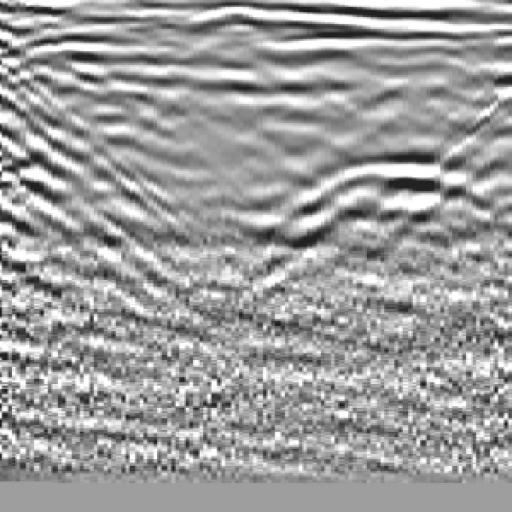metalic: (298, 42, 484, 318)
nonmetalic: (1, 43, 100, 296)
